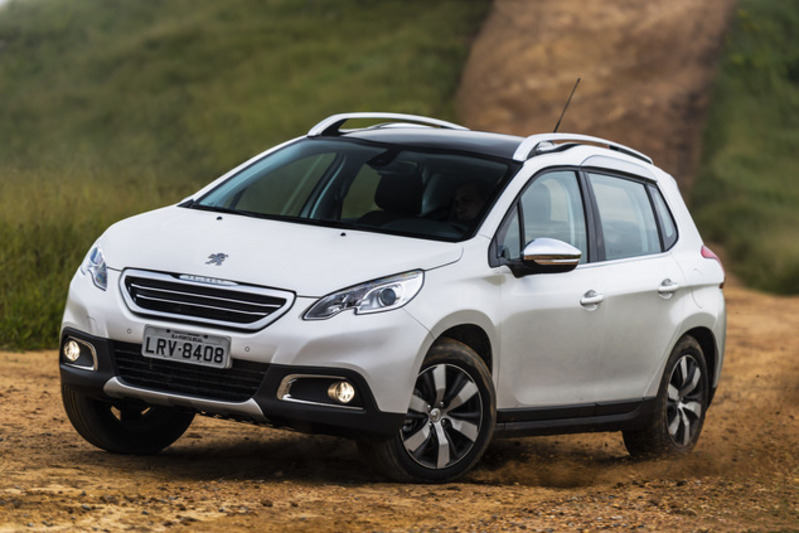car: (62, 107, 723, 463)
